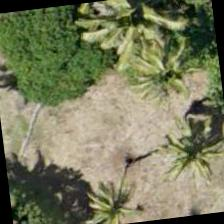Kelapa_Sawit: (115, 26, 215, 126), (145, 102, 223, 203), (66, 153, 165, 223)
